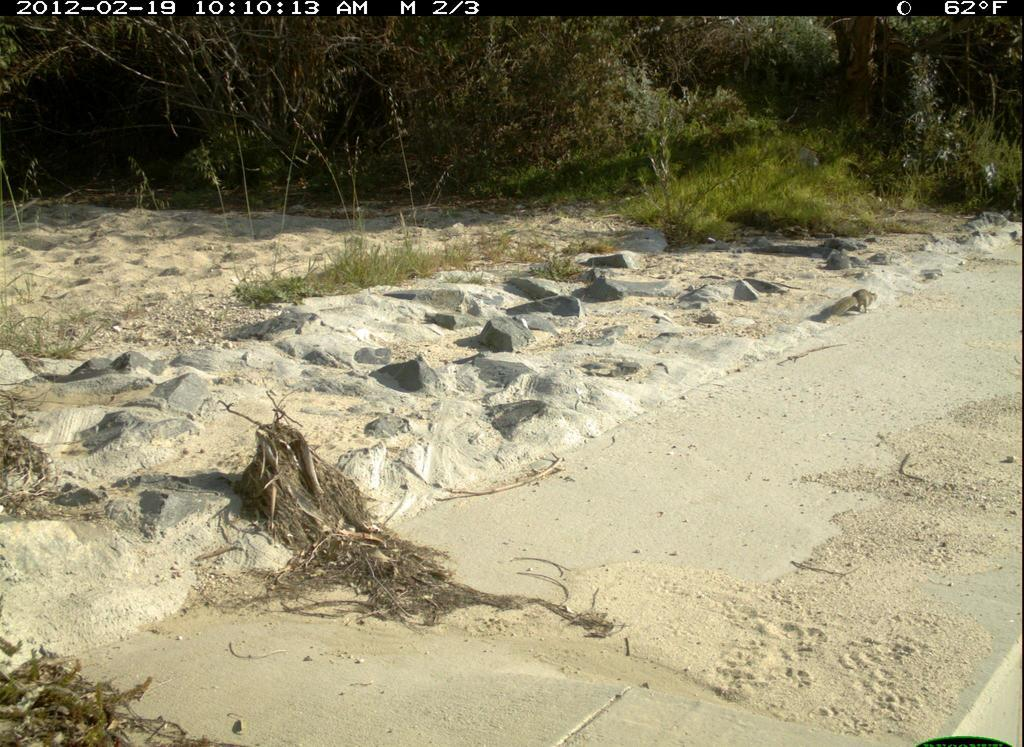squirrel: (827, 285, 884, 326)
